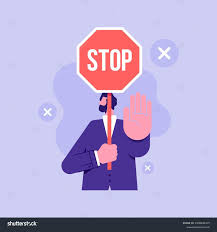stop sign: (77, 27, 141, 93)
